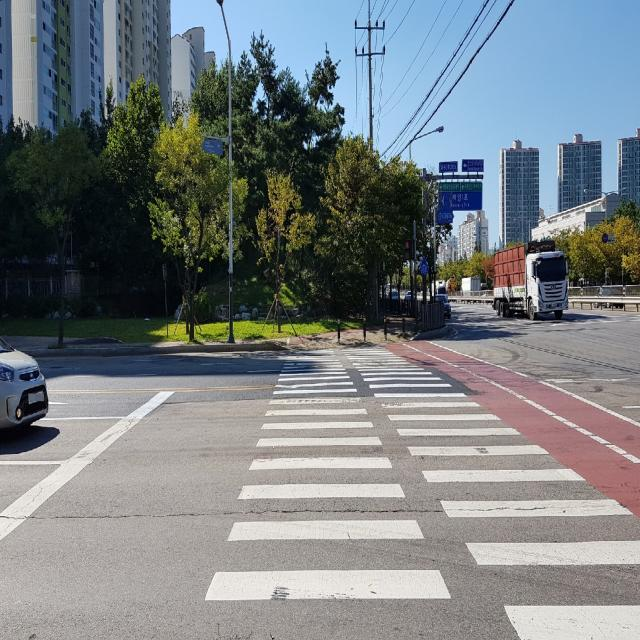횡단보도: (203, 344, 640, 639)
